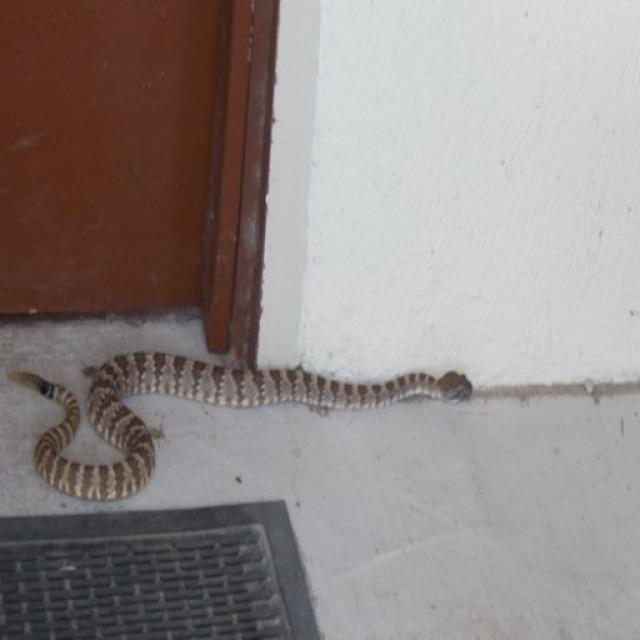snake: (2, 325, 502, 501)
